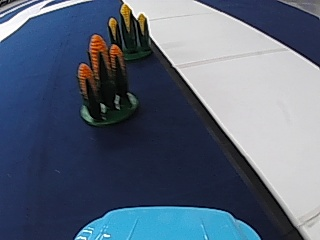corn: (76, 28, 139, 128), (107, 2, 153, 59)
